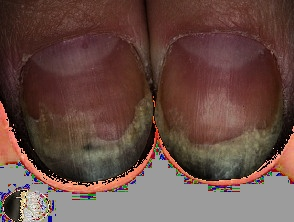Nail_psoriasis: (0, 23, 177, 202), (141, 39, 294, 195)
